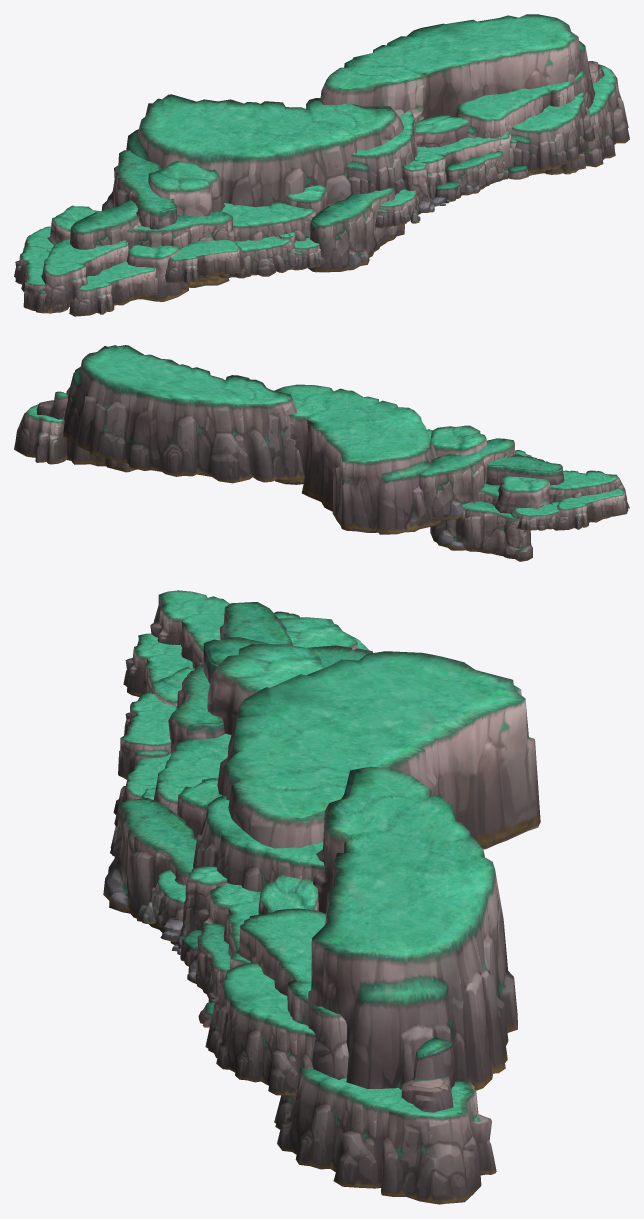
File: yanshi6.fbx
3 renders of one model, top to bottom at view 1: azimuth 30°, elevation 25°; view 2: azimuth 150°, elevation 25°; view 3: azimuth 270°, elevation 25°, orthographic. The views are drawn at different scales.
Parts seen in each view (by area): view 1: yanshi6; view 2: yanshi6; view 3: yanshi6.
Part boxes in pixels (<box>): yanshi6: <box>14,14,629,316</box>; yanshi6: <box>14,345,629,561</box>; yanshi6: <box>103,590,540,1204</box>.
Size of the model in its own units: 15870 by 2831 by 5488.
